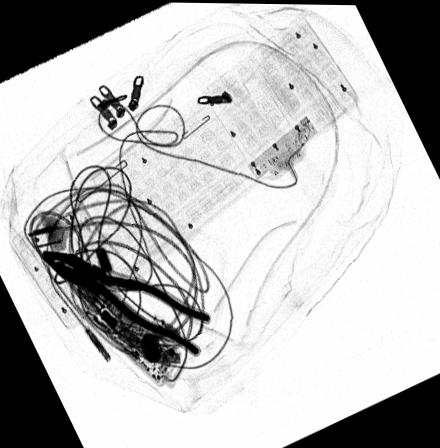Pliers: (40, 251, 211, 355)
